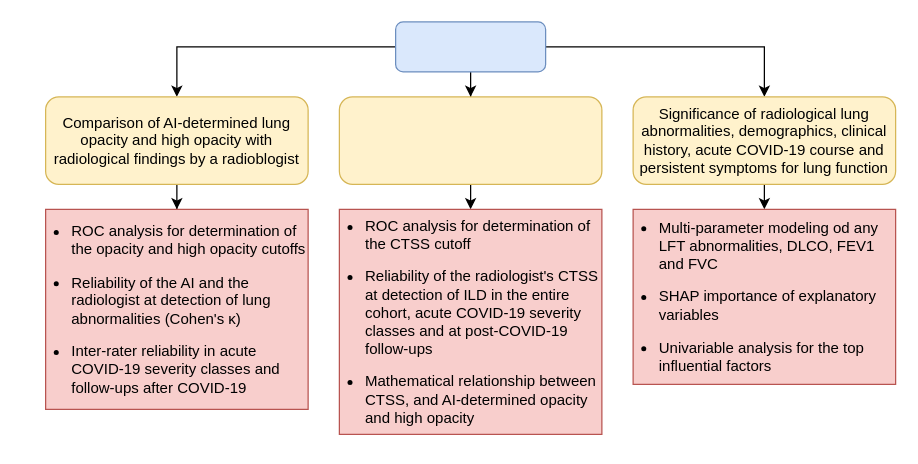
This 918x464 diagram has some shape labels left out. The shapes that lost their labels are listed below. From the top down, each one's centre as x and y in pixels, then its label:
At [470,46]: "COVID-19 recovery".
At [470,140]: "Cut-off of radiologist's CT severity score (CTSS) for detection of ILD".
